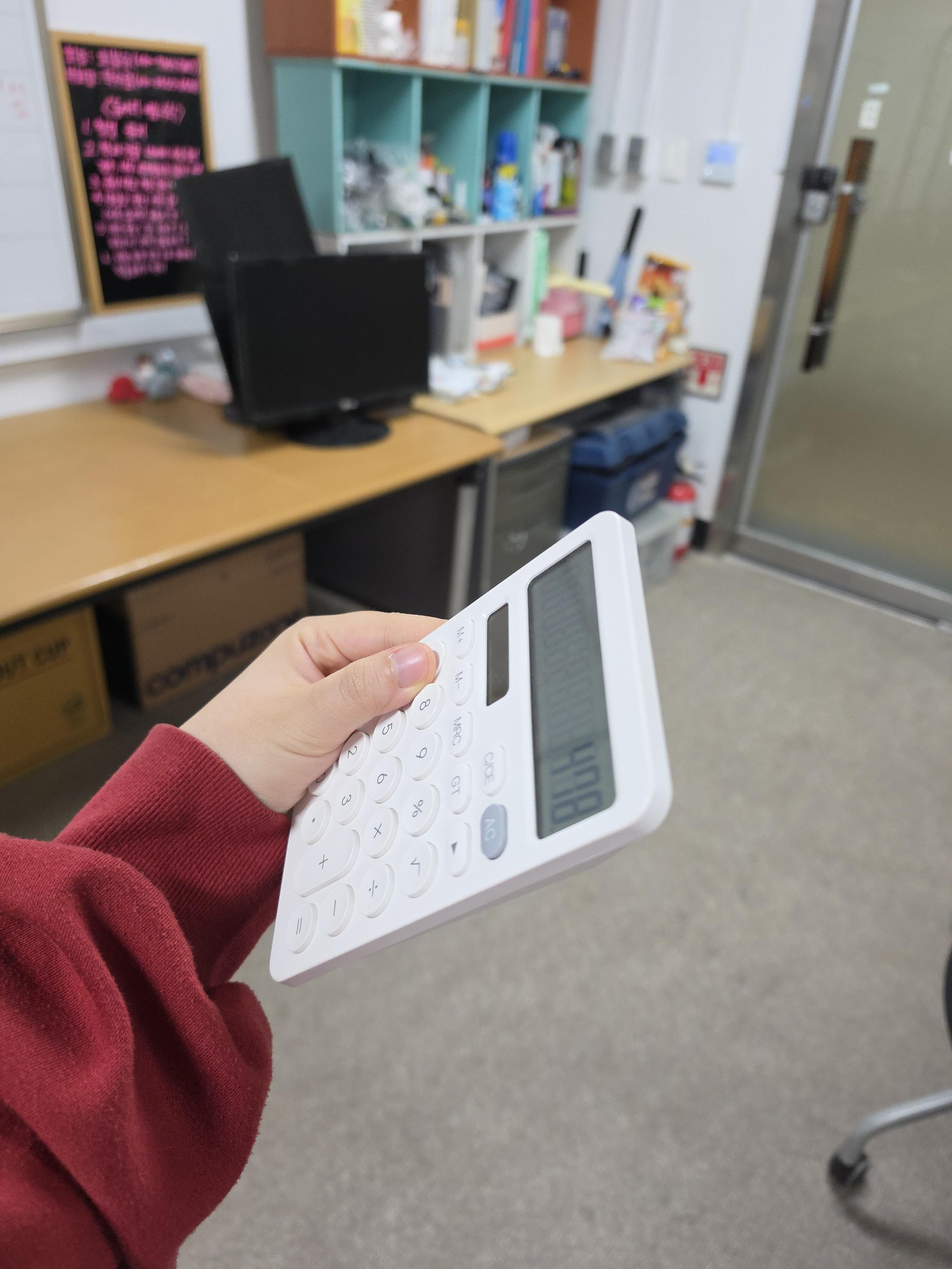calculator: (269, 510, 672, 986)
